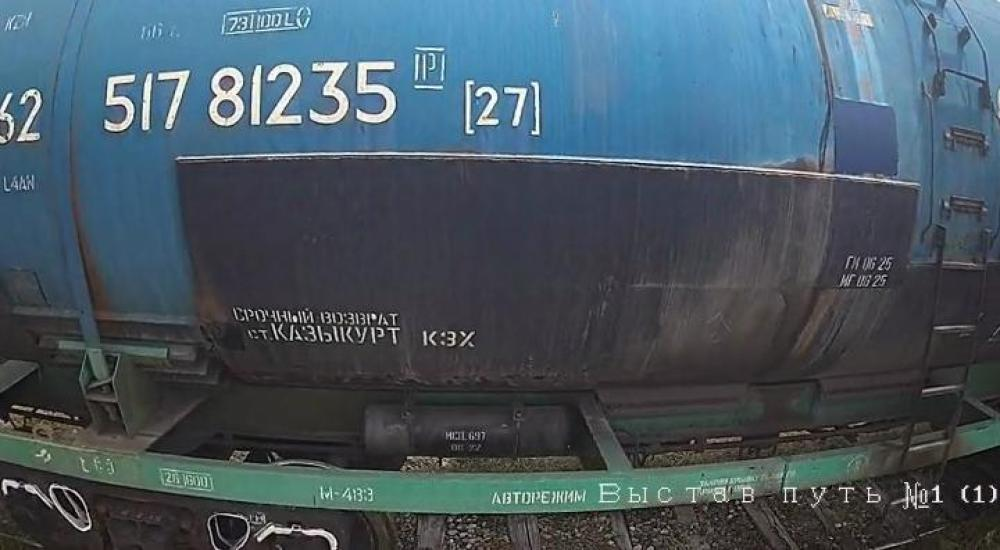Wagon-number: (97, 54, 403, 141)
